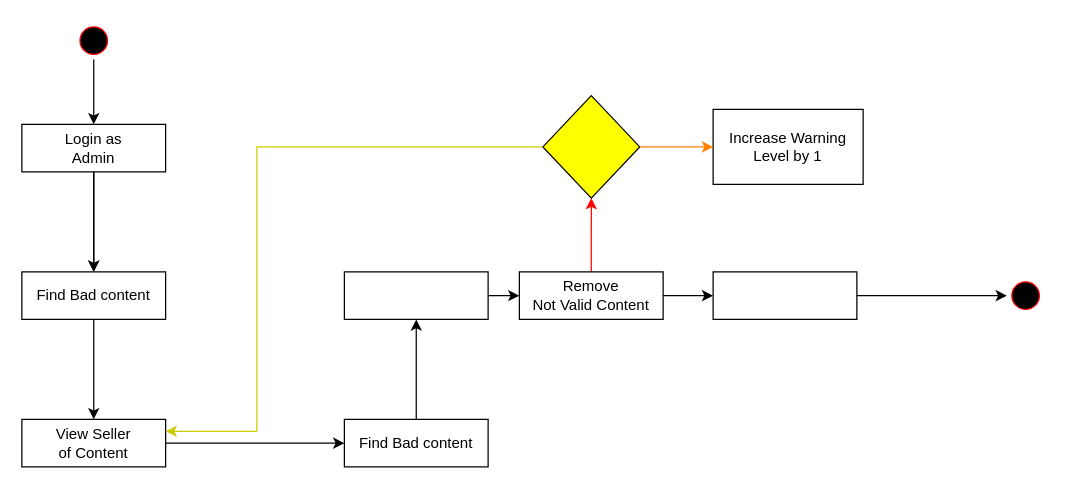
Image size: 1066x489. Some labels were removed from this diagram. Here are the shapes that lost their labels. From the top down, the box of each, then its label:
(542, 94, 640, 198): Send Warning to Seller
(343, 271, 488, 319): Mark Content Not Valid
(712, 271, 857, 319): Mark Content ID as not valid
